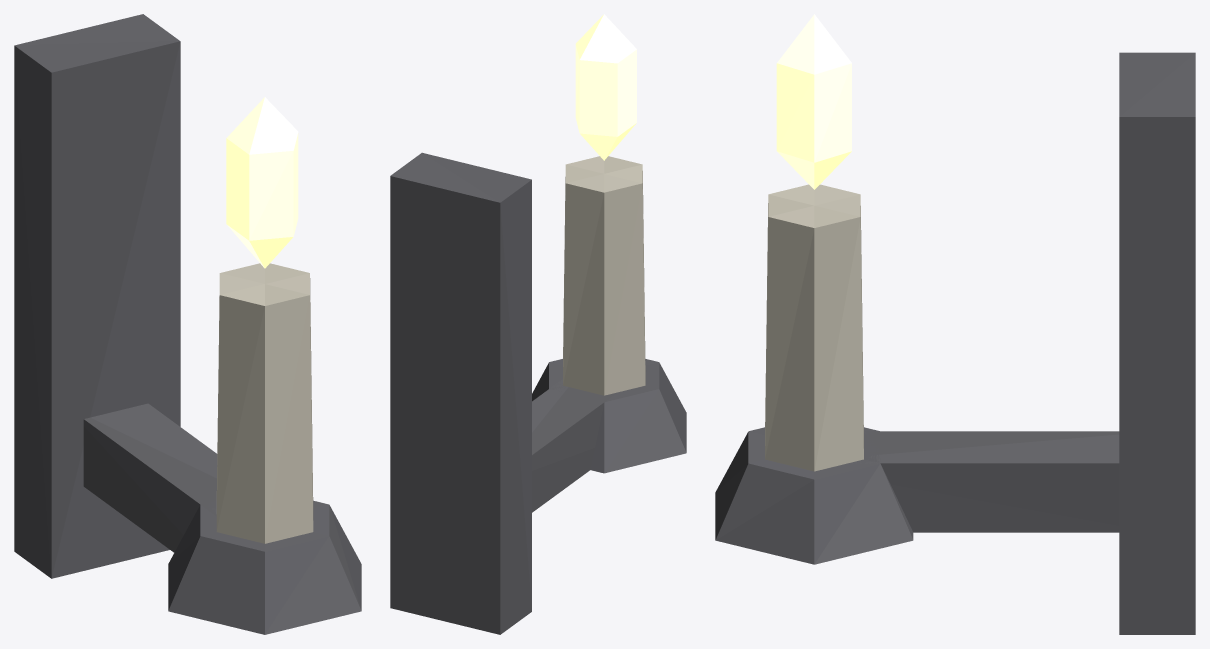
Rendered from sconce.glb.
3 views of the same model, side by side, from view 1: azimuth 30°, elevation 25°; view 2: azimuth 150°, elevation 25°; view 3: azimuth 270°, elevation 25° (orthographic). The views are drawn at different scales.
Parts seen in each view (by area): view 1: sconce; view 2: sconce; view 3: sconce.
Boxes of the visible parts, x1,y1,x2,y2 form: sconce: (14,14,361,634); sconce: (390,14,686,634); sconce: (715,14,1195,634).
Size of the model in its own units: 0.12 by 0.341 by 0.252.
